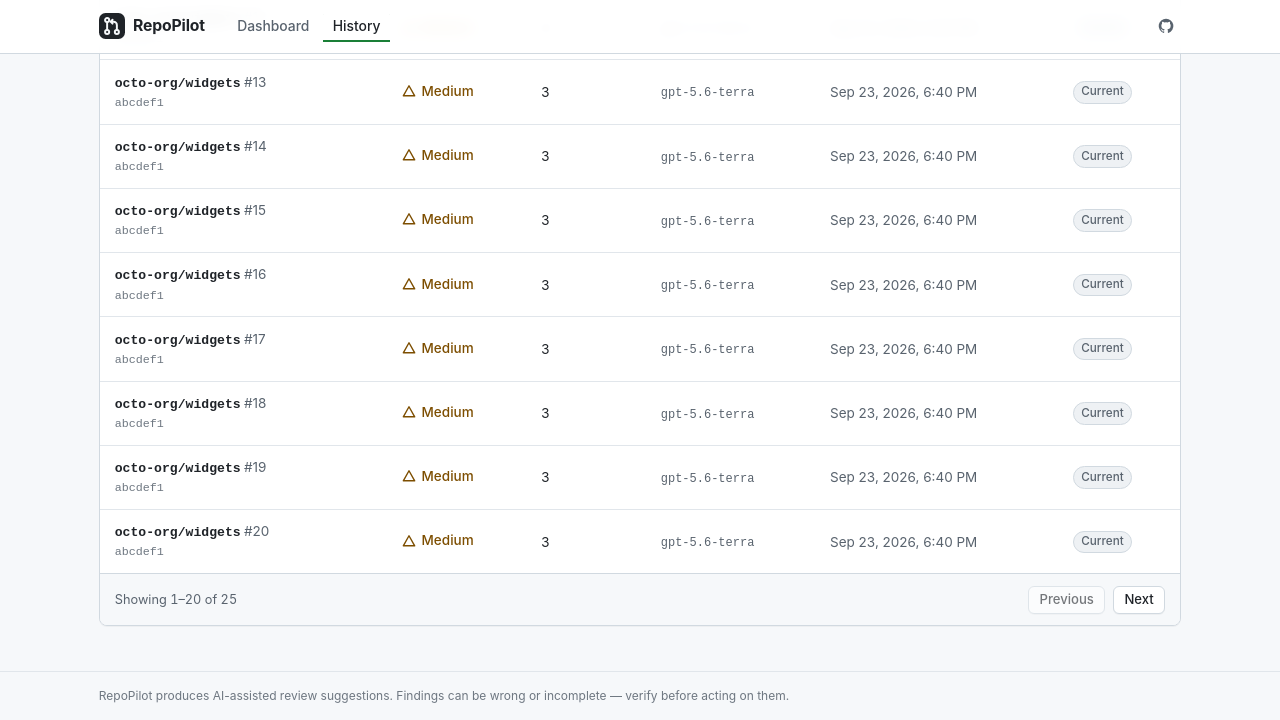
Test case: ReviewHistoryPage › paginates with limit and offset
The image size is (1280, 720).
(page scrolled)
Expected: the text "Showing 1–20 of 25" is shown, [115,590,237,609]
Expected: the button "Previous" is disabled, [1028,586,1105,614]
Click the button "Next": (1139, 600) [1113,586,1165,614]
(page scrolled)
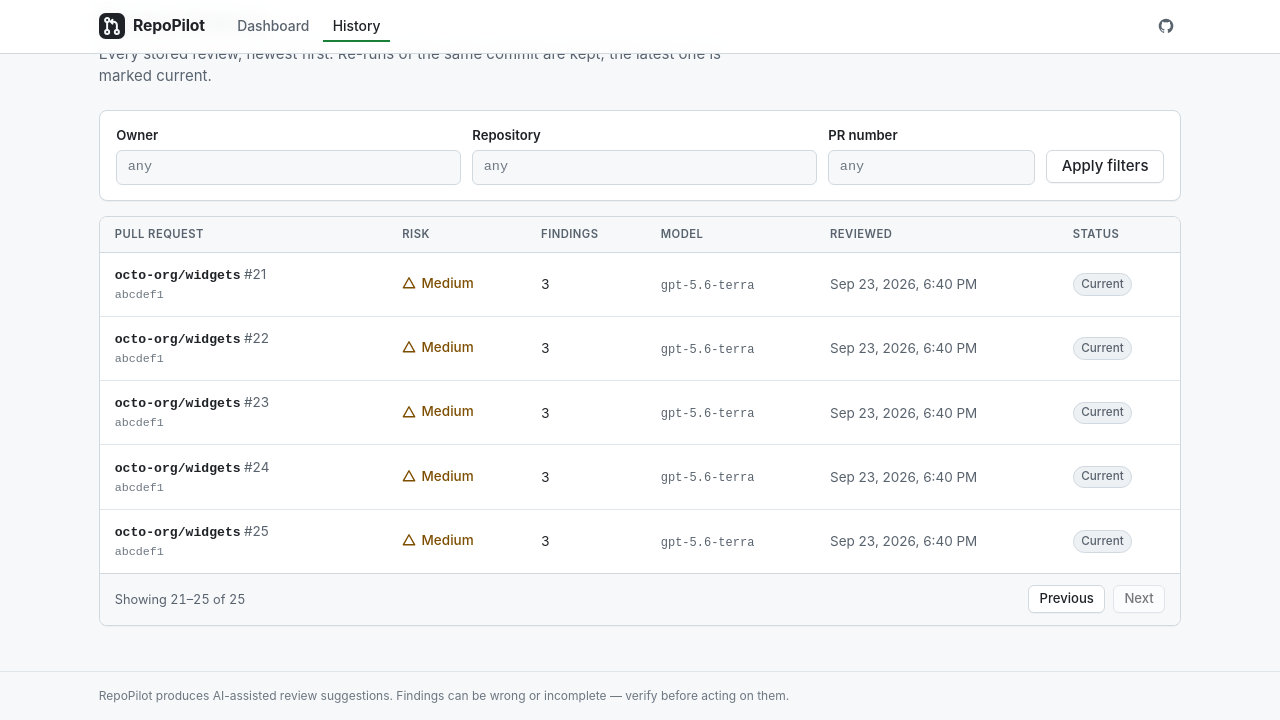
Expected: the text "Showing 21–25 of 25" is shown, [115,590,246,609]
Expected: the button "Next" is disabled, [1113,585,1165,614]
